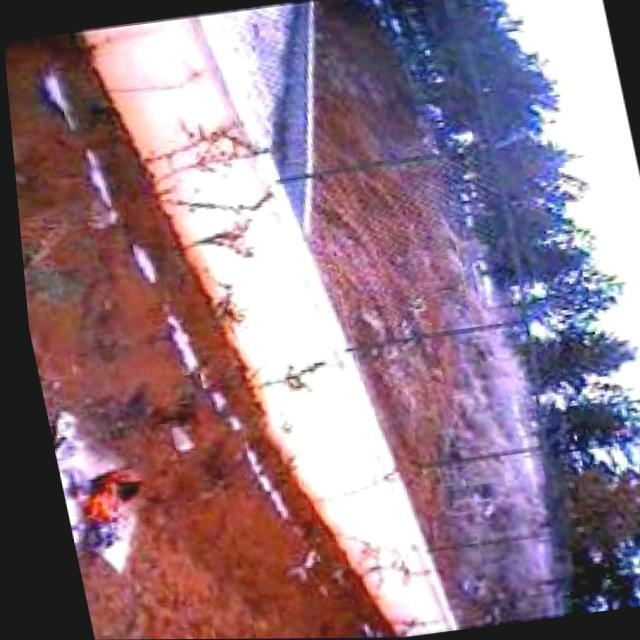Fire: (65, 464, 147, 541)
